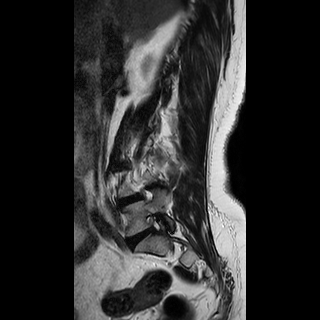RFS0: (140, 207, 168, 238)
